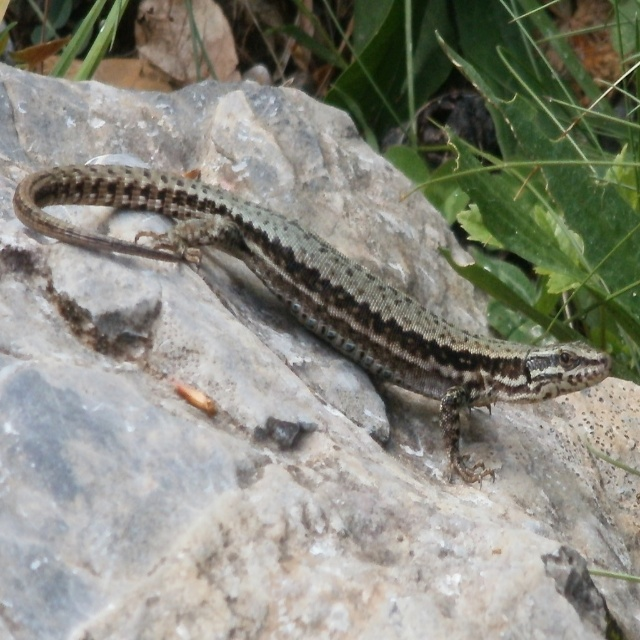Lizard: (11, 151, 614, 502)
